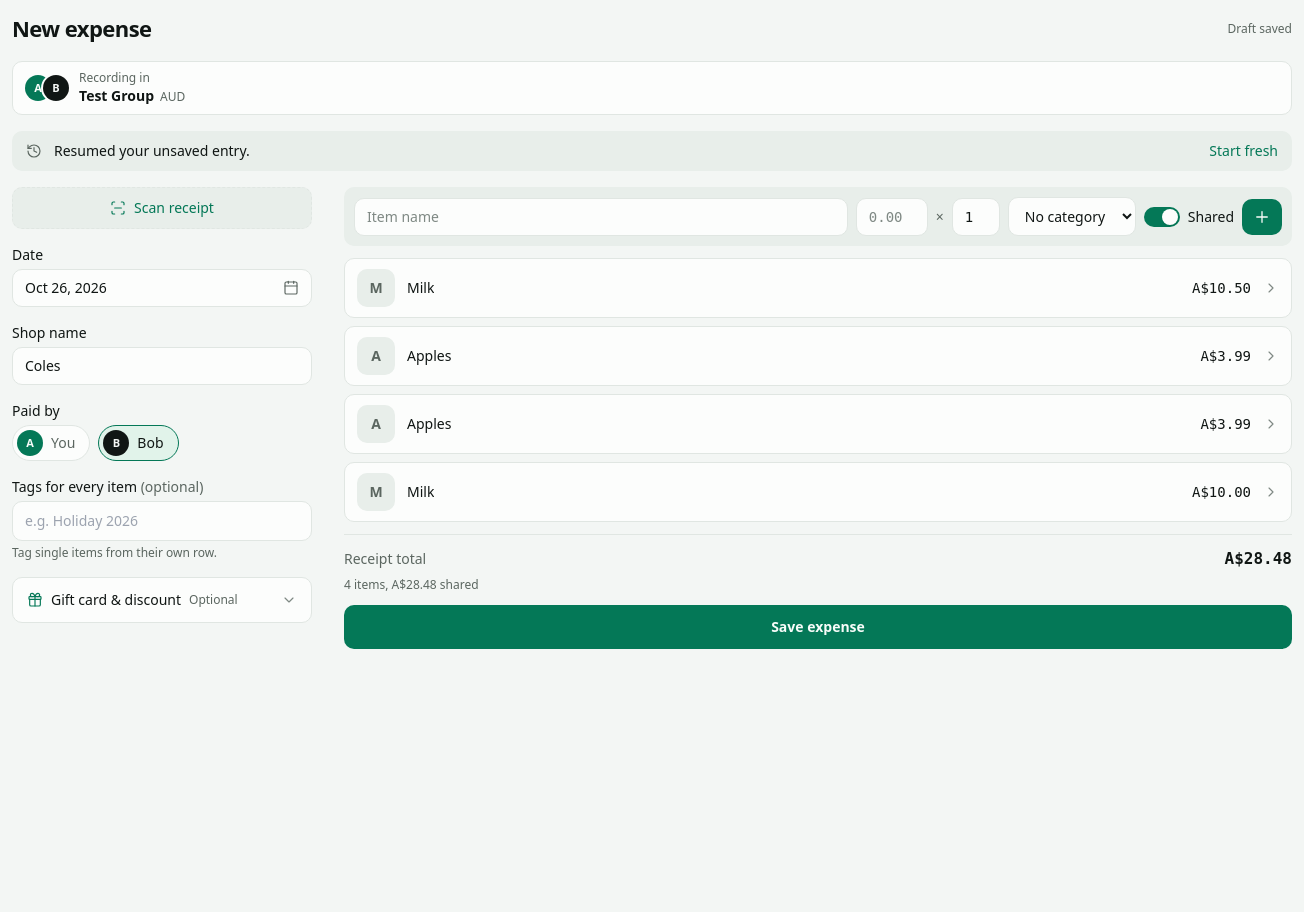
Test case: ExpenseEditor › hides the paid-to-split line when the gift card section is collapsed
Step 1. Click the button "Gift card & discount Optional" → point(162, 600), box [13,578,311,622]
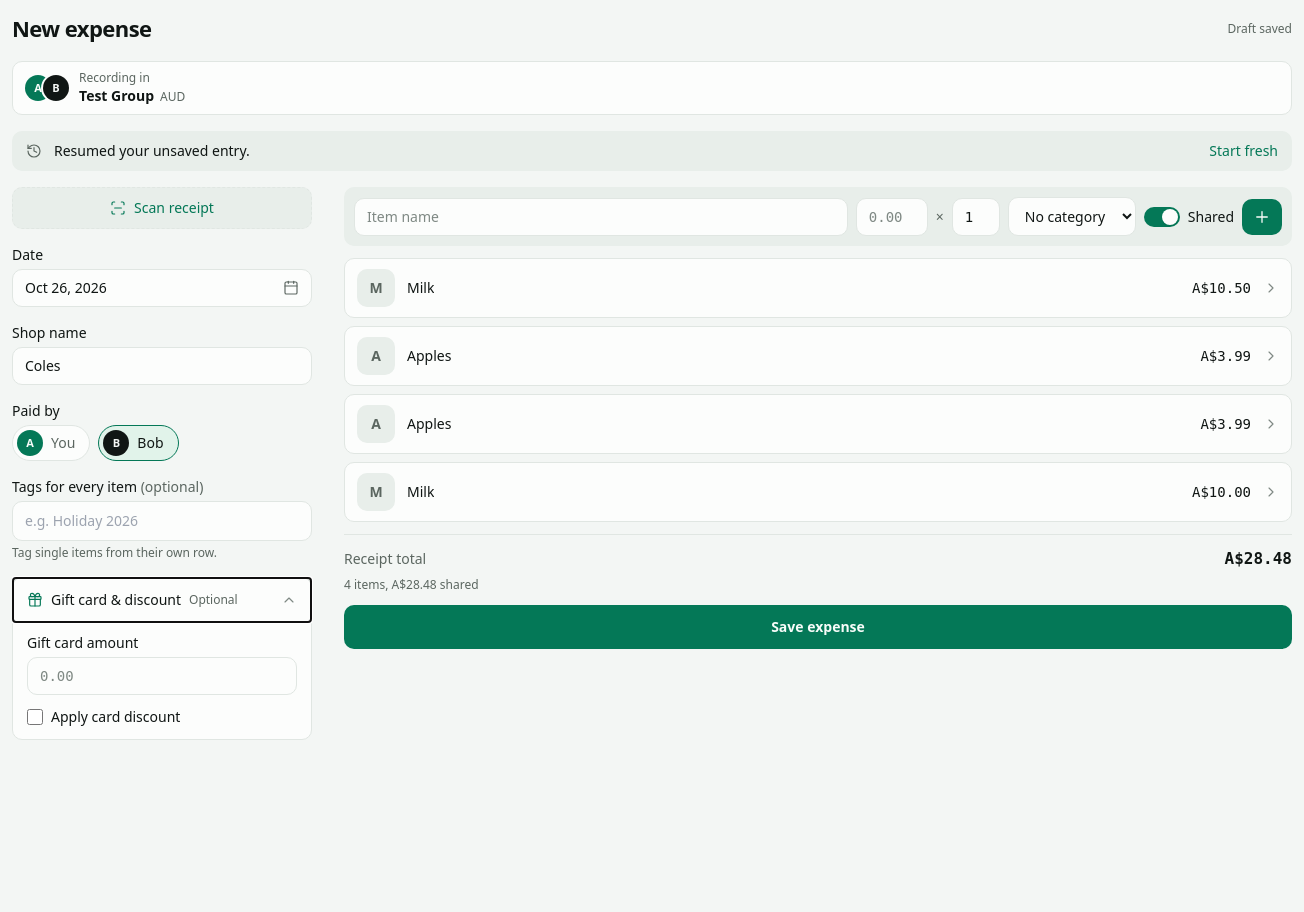
Step 2. Type "5.30" into the field labelled "Gift card amount" → point(162, 676), box [27,657,297,695]
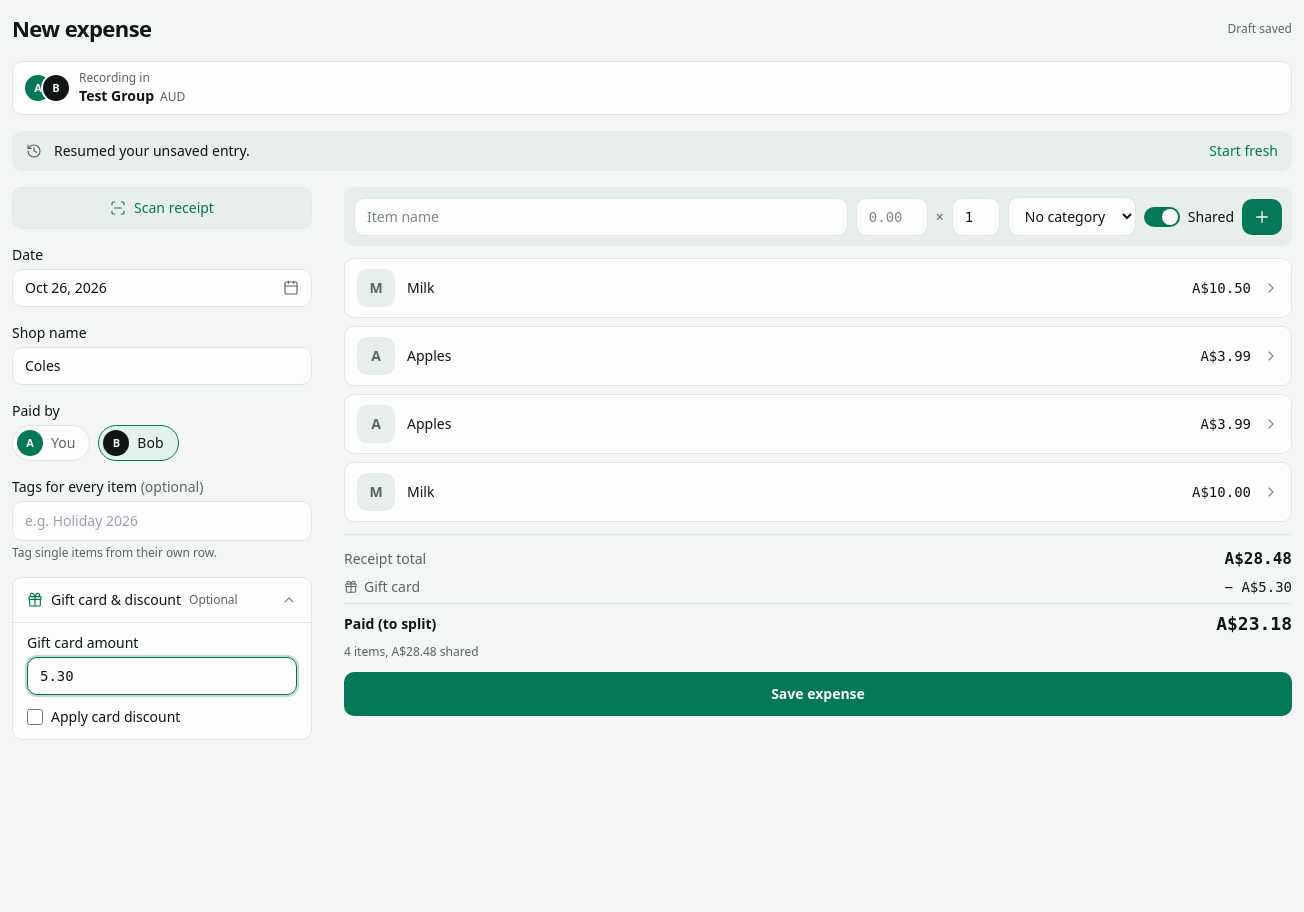
Step 3. Click the button "Gift card & discount Optional" → point(162, 600), box [13,578,311,622]
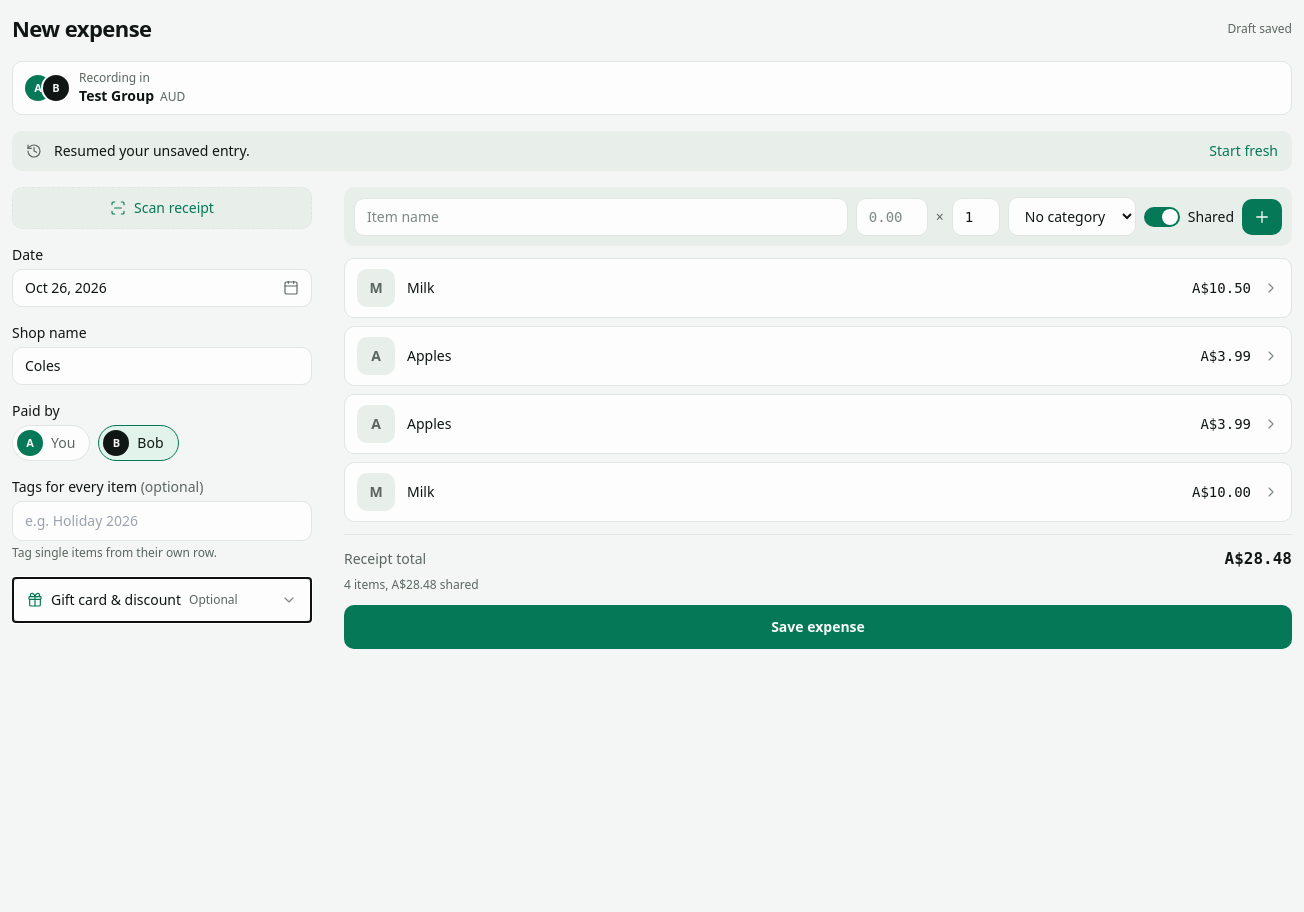
Result: the text "Paid (to split)" is gone
